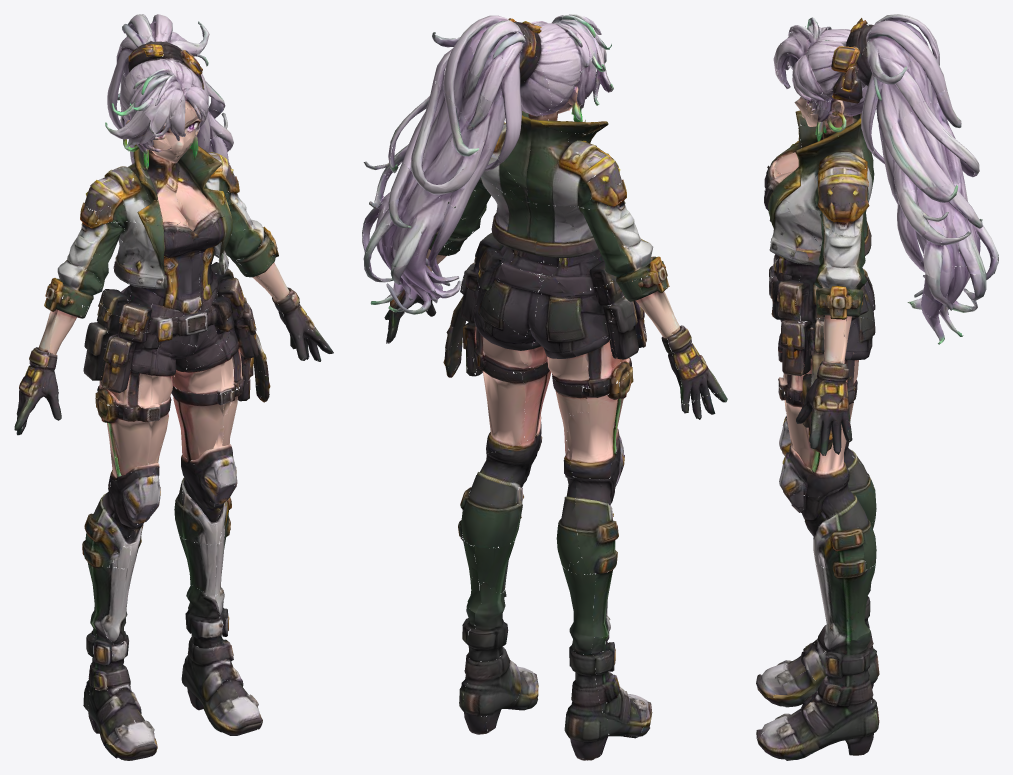
Rendered from hl_judy.glb.
The picture shows the model from 3 angles, left to right: view 1: azimuth 30°, elevation 25°; view 2: azimuth 150°, elevation 25°; view 3: azimuth 270°, elevation 25°; orthographic projection. The views are drawn at different scales.
Parts seen in each view (by area): view 1: tripo_node_bc3ad10b-3823-4350-bf43-4bdf83ad29b2; view 2: tripo_node_bc3ad10b-3823-4350-bf43-4bdf83ad29b2; view 3: tripo_node_bc3ad10b-3823-4350-bf43-4bdf83ad29b2.
Boxes of the visible parts, left/top/right/bottom form: tripo_node_bc3ad10b-3823-4350-bf43-4bdf83ad29b2: left=14, top=14, right=333, bottom=760; tripo_node_bc3ad10b-3823-4350-bf43-4bdf83ad29b2: left=362, top=14, right=727, bottom=760; tripo_node_bc3ad10b-3823-4350-bf43-4bdf83ad29b2: left=756, top=14, right=998, bottom=760.
Bounding box in the file's own units: 0.4784 × 0.9786 × 0.3006.
1 material, 1 textured.
